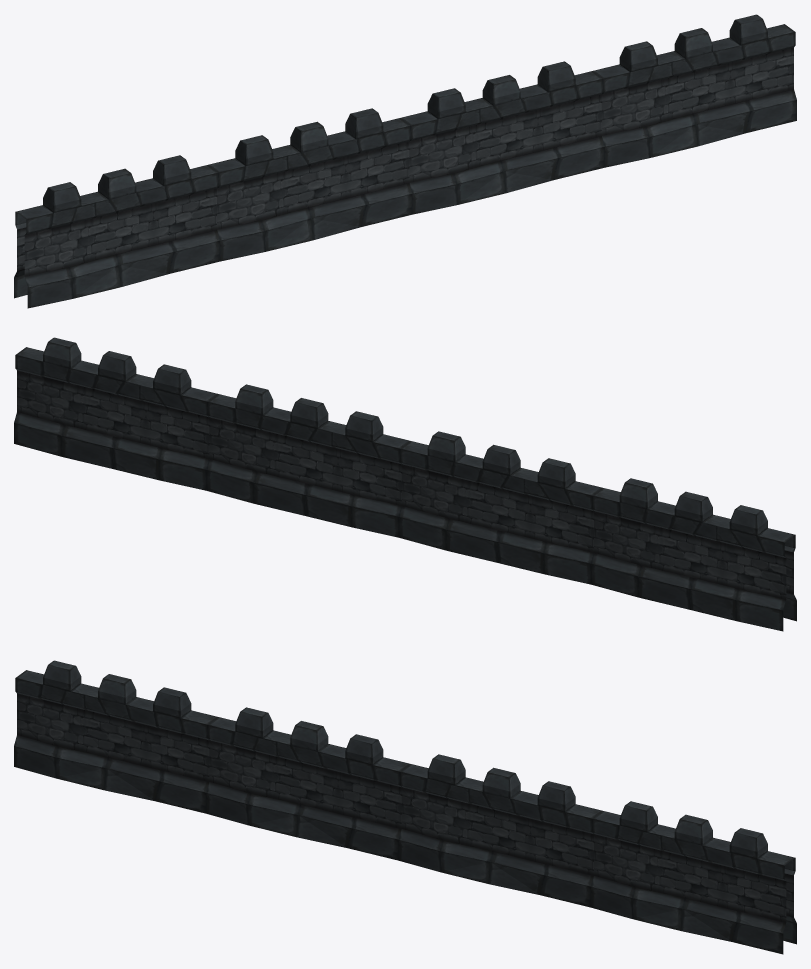
File: cp_wall4.FBX
3 renders of one model, top to bottom at view 1: azimuth 30°, elevation 25°; view 2: azimuth 150°, elevation 25°; view 3: azimuth 330°, elevation 25°, orthographic.
Parts seen in each view (by area): view 1: wall4; view 2: wall4; view 3: wall4.
Boxes of the visible parts, box(x1,y1,x2,y2) form: wall4: box(14, 14, 796, 308); wall4: box(14, 337, 796, 631); wall4: box(14, 660, 796, 954).
Size of the model in its own units: 292 by 38.66 by 11.
